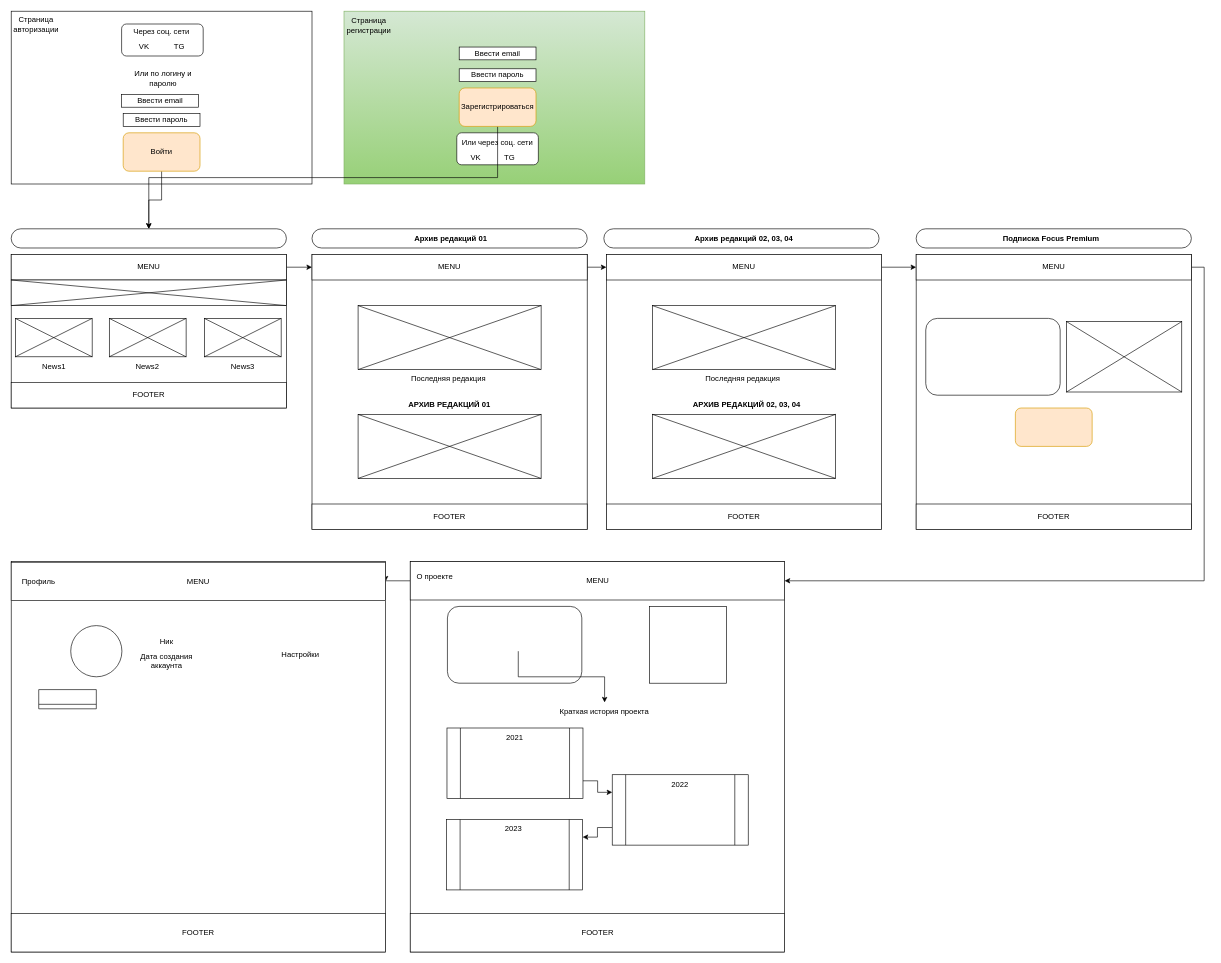
The diagram is 1221 pixels wide and 963 high, and some of its shapes have lost their labels. The shapes that lost their labels are listed below. From the top down, each one's box as (x1, y1, x2, y2) in pixels, then its label:
(11, 228, 286, 248): Главная страница
(925, 318, 1060, 395): Блок с описанием подписки и преимуществами
(1015, 407, 1092, 446): Оформить подписку
(70, 625, 122, 677): Фото профиля
(447, 606, 582, 683): Блок "О проекте"
(649, 606, 726, 683): LOGO
(38, 689, 96, 709): Подписка
